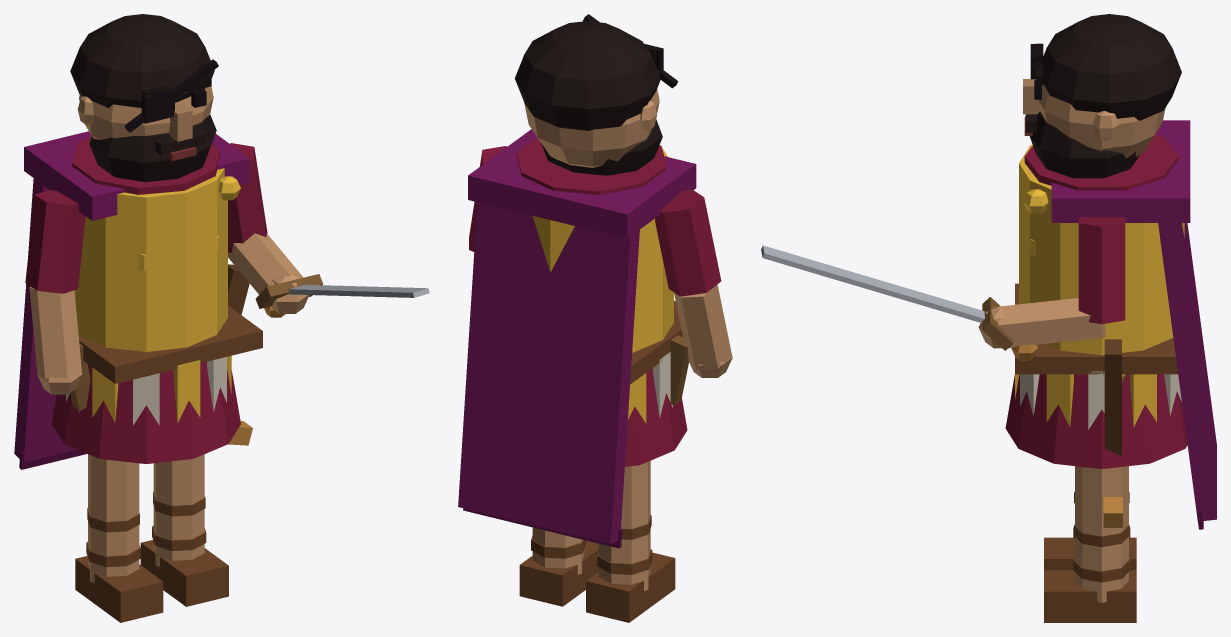
The model's file is hannibal.glb.
3 renders of one model, left to right at view 1: azimuth 30°, elevation 25°; view 2: azimuth 150°, elevation 25°; view 3: azimuth 270°, elevation 25°, orthographic.
Parts seen in each view (by area): view 1: cialo, glowa, noga_l, reka_l, noga_p, reka_p, peleryna; view 2: peleryna, cialo, glowa, reka_l, noga_l, noga_p, reka_p; view 3: cialo, glowa, reka_p, noga_p, peleryna, noga_l.
Part boxes in pixels (x1,y1,x2,y2): cialo: (24,131,262,463); glowa: (70,14,218,182); noga_l: (75,454,163,622); reka_l: (25,190,85,394); noga_p: (140,454,228,606); reka_p: (228,143,429,317); peleryna: (14,178,86,469); peleryna: (458,202,639,548); cialo: (468,129,696,466); glowa: (515,14,678,175); reka_l: (655,189,732,377); noga_l: (586,461,675,622); noga_p: (519,527,598,606); reka_p: (469,146,506,251); cialo: (1005,120,1190,527); glowa: (1023,14,1181,178); reka_p: (761,217,1125,360); noga_p: (1044,466,1136,622); peleryna: (1158,223,1216,529); noga_l: (1044,492,1136,570).
Size of the model in its own units: 0.7352 by 1.64 by 1.18.
